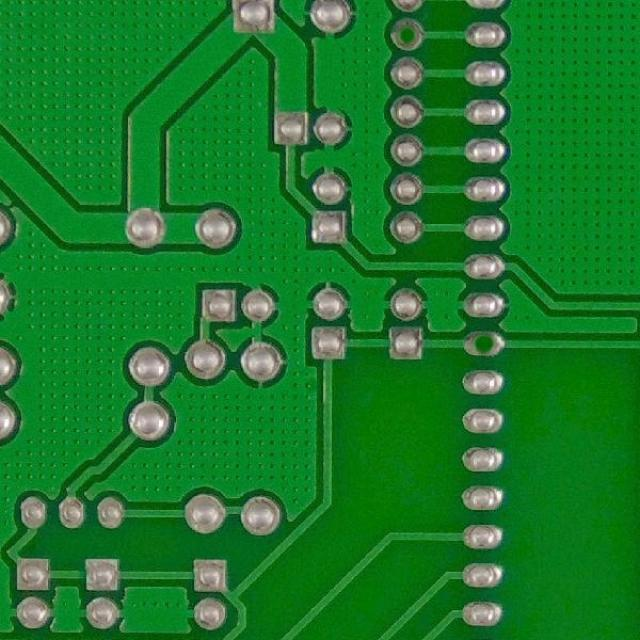missing_hole: (462, 322, 508, 361), (386, 13, 429, 52)
